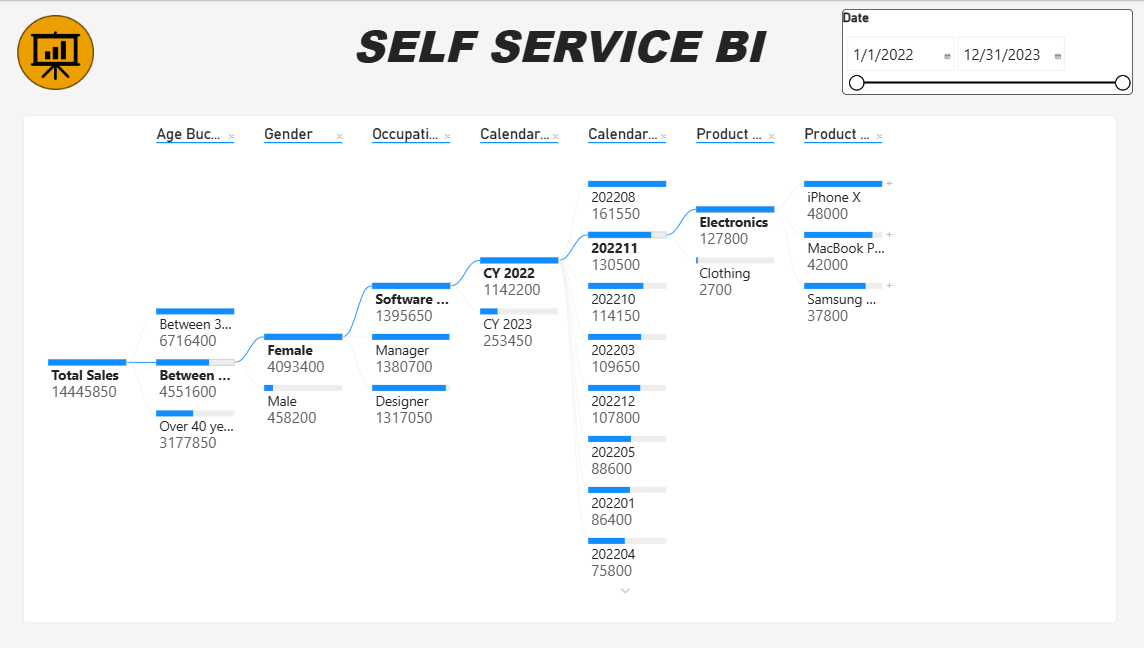

This screenshot's page, from the dashboard's own definition file:
{"tool":"powerbi","page":{"name":"Self Service BI","canvas":[1920,1080],"ordinal":7},"visuals":[{"type":"image","box":[21.7,23.3,152.5,125],"z":3000},{"type":"slicer","title":"Date","fields":{"Values":["Date.Date"]},"box":[1407.5,12.5,485,142.5],"z":3002},{"type":"textbox","box":[593.3,23.3,730,116.7],"z":3003},{"type":"decompositionTreeVisual","fields":{"Analyze":["_Measures.Total Sales"],"ExplainBy":["Customers.Age Bucket","Customers.Gender","Customers.Occupation","Date.Calendar Year","Date.Calendar Year Month Number","Products.Product Category","Products.Product Name","Customers.City"]},"box":[43.3,190,1823.3,846.7],"z":3004}]}

Visuals, with their boxes in screenshot pixels (x1, y1, x2, y2), scaled from the page's 1920x1080 canvas onto the 1144x648 screenshot:
image: (13, 14, 104, 89)
"Date" slicer: (839, 8, 1128, 93)
textbox: (354, 14, 788, 84)
decompositionTreeVisual - _Measures.Total Sales x Customers.Age Bucket: (26, 114, 1112, 622)
